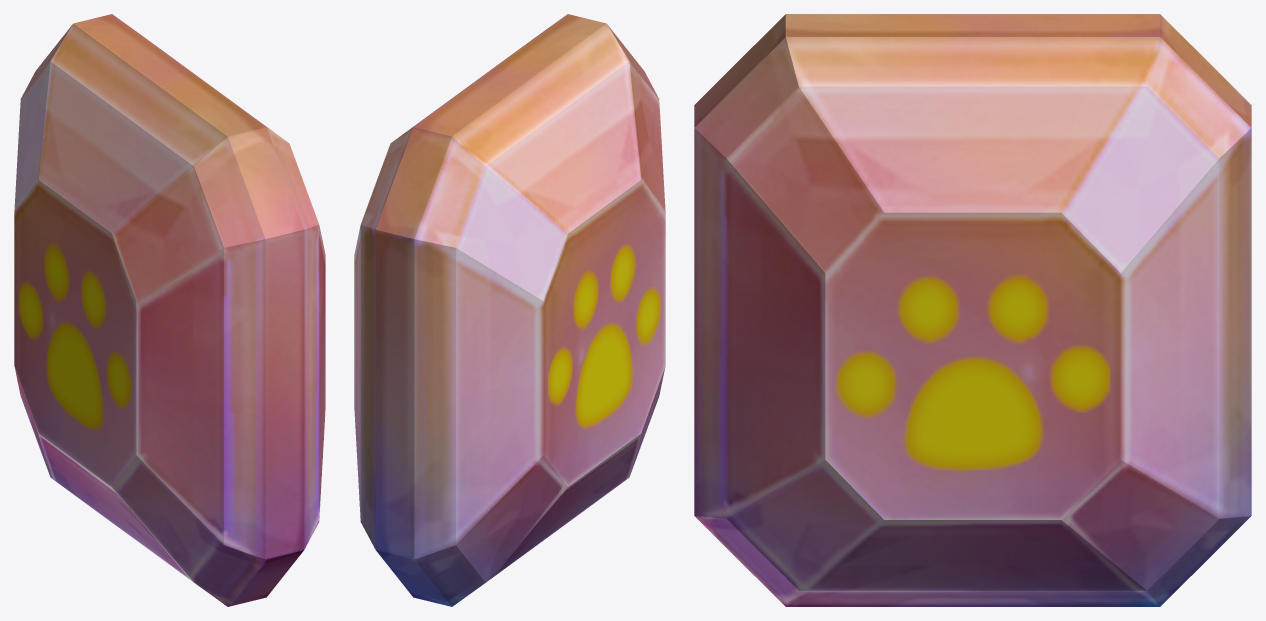
File: scenes_common_rock01b.FBX
3 views of the same model, side by side, from view 1: azimuth 30°, elevation 25°; view 2: azimuth 150°, elevation 25°; view 3: azimuth 270°, elevation 25° (orthographic). The views are drawn at different scales.
Visible parts, largest first — view 1: scenes_common_rock01b; view 2: scenes_common_rock01b; view 3: scenes_common_rock01b.
Boxes of the visible parts, x1,y1,x2,y2 form: scenes_common_rock01b: (14,14,325,606); scenes_common_rock01b: (354,14,665,606); scenes_common_rock01b: (694,14,1251,606).
Bounding box in the file's own units: 10.4 × 24.7 × 21.88.
